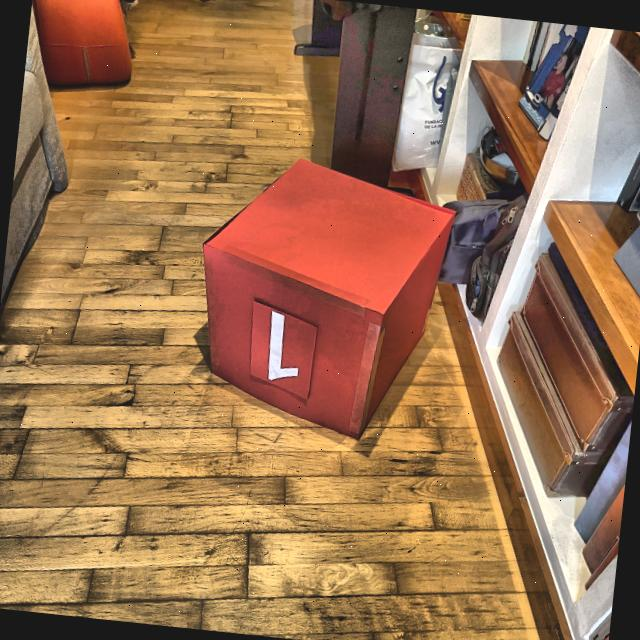one: (262, 308, 307, 384)
red box: (182, 146, 463, 450)
